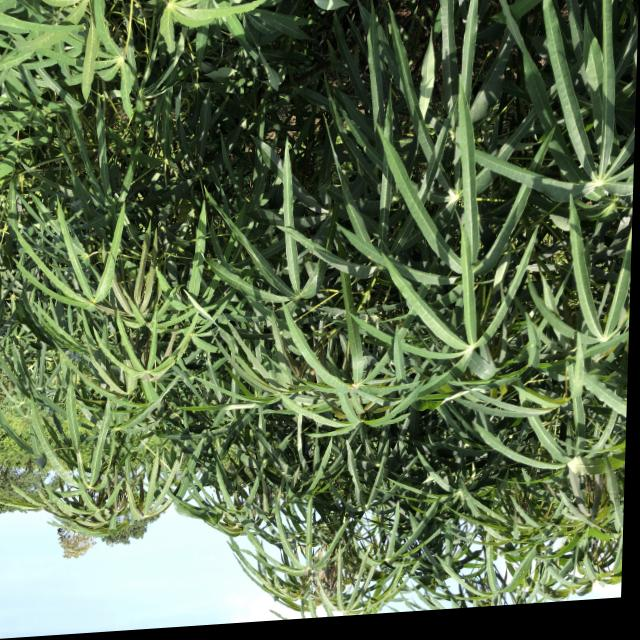Mosca: (348, 378, 362, 391)
